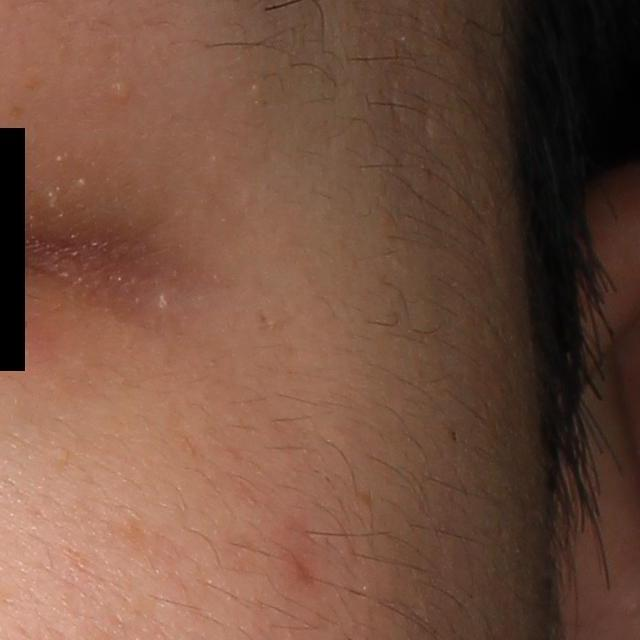other: (108, 77, 136, 101), (76, 176, 88, 188)
